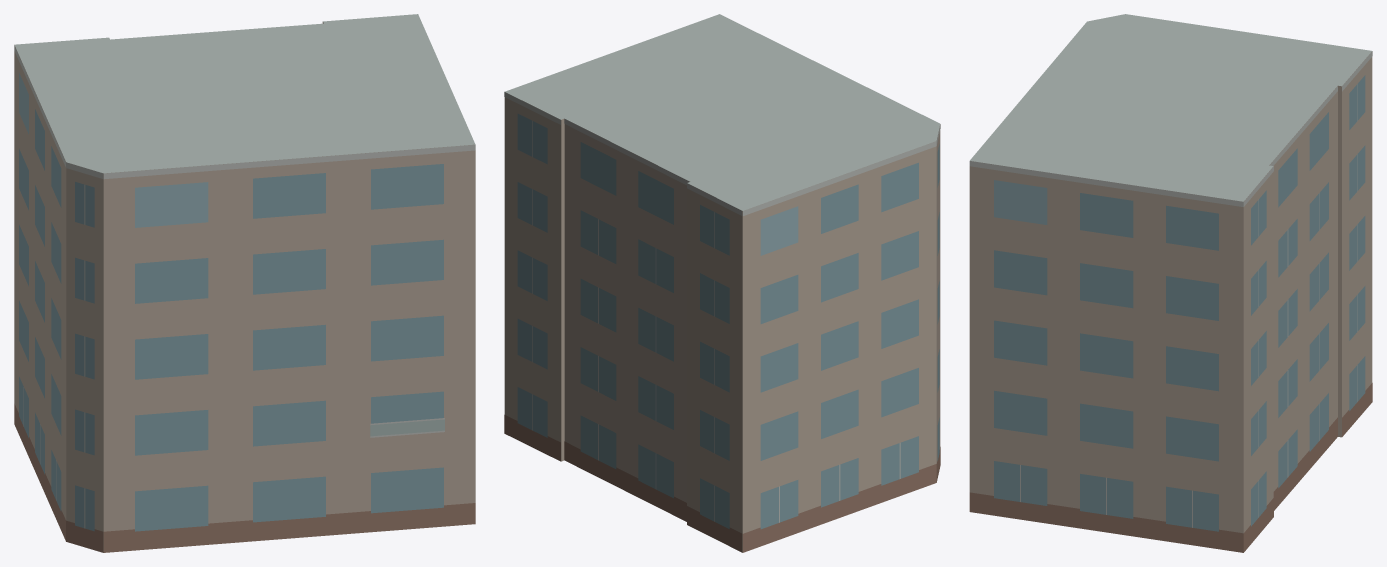
The model's file is survey-upis-32889808.glb.
The picture shows the model from 3 angles, left to right: view 1: azimuth 30°, elevation 25°; view 2: azimuth 150°, elevation 25°; view 3: azimuth 270°, elevation 25°; orthographic projection. The views are drawn at different scales.
Visible parts, largest first — view 1: survey-upis-32889808.tmp; view 2: survey-upis-32889808.tmp; view 3: survey-upis-32889808.tmp.
Part boxes in pixels (x1,y1,x2,y2): survey-upis-32889808.tmp: [14, 14, 475, 552]; survey-upis-32889808.tmp: [504, 14, 940, 552]; survey-upis-32889808.tmp: [969, 14, 1372, 552].
Size of the model in its own units: 18.07 by 15.75 by 16.39.
